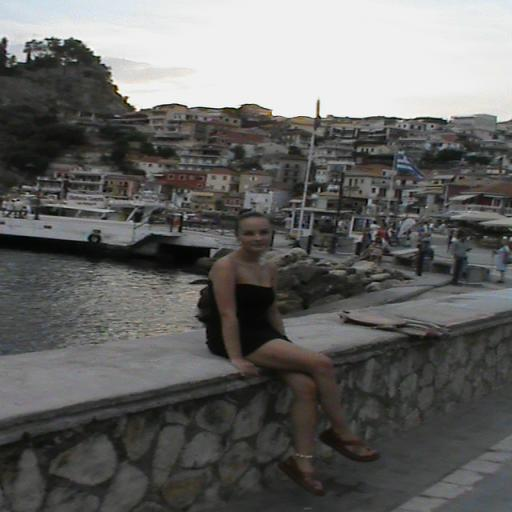marija: (239, 219, 276, 254)
